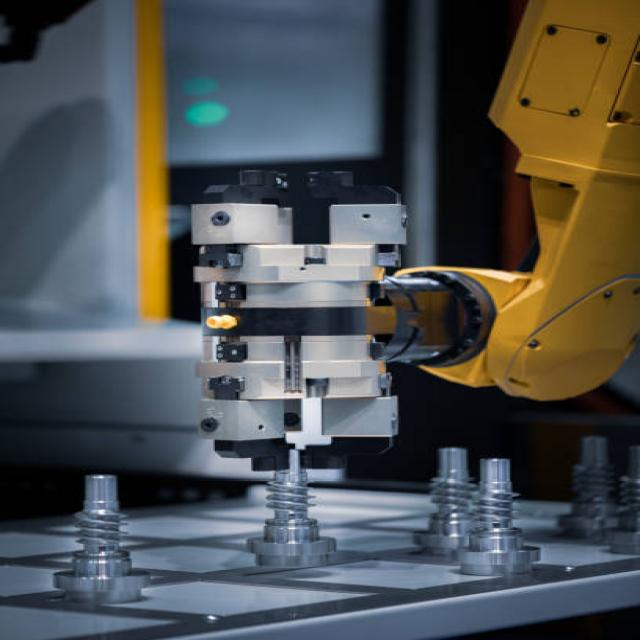Robotic-arm: (370, 0, 640, 409)
